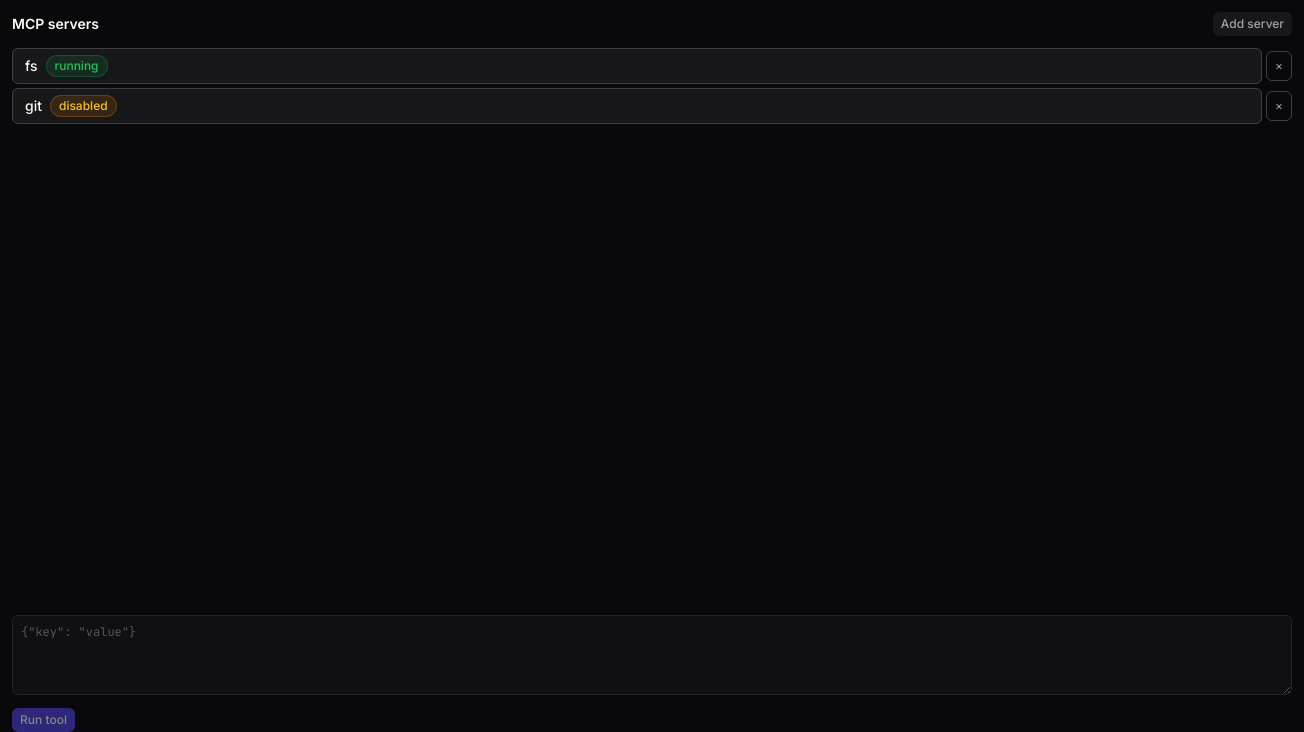
McpPlayground (Fase D + deny-by-default) › lists servers and tools; Run is disabled until a tool is selected
Check: the button "Run tool" is disabled, box 12,708 -> 75,731
Click the button with test id "mcp-server" at coordinates (77, 66), box 12,48 -> 1262,84
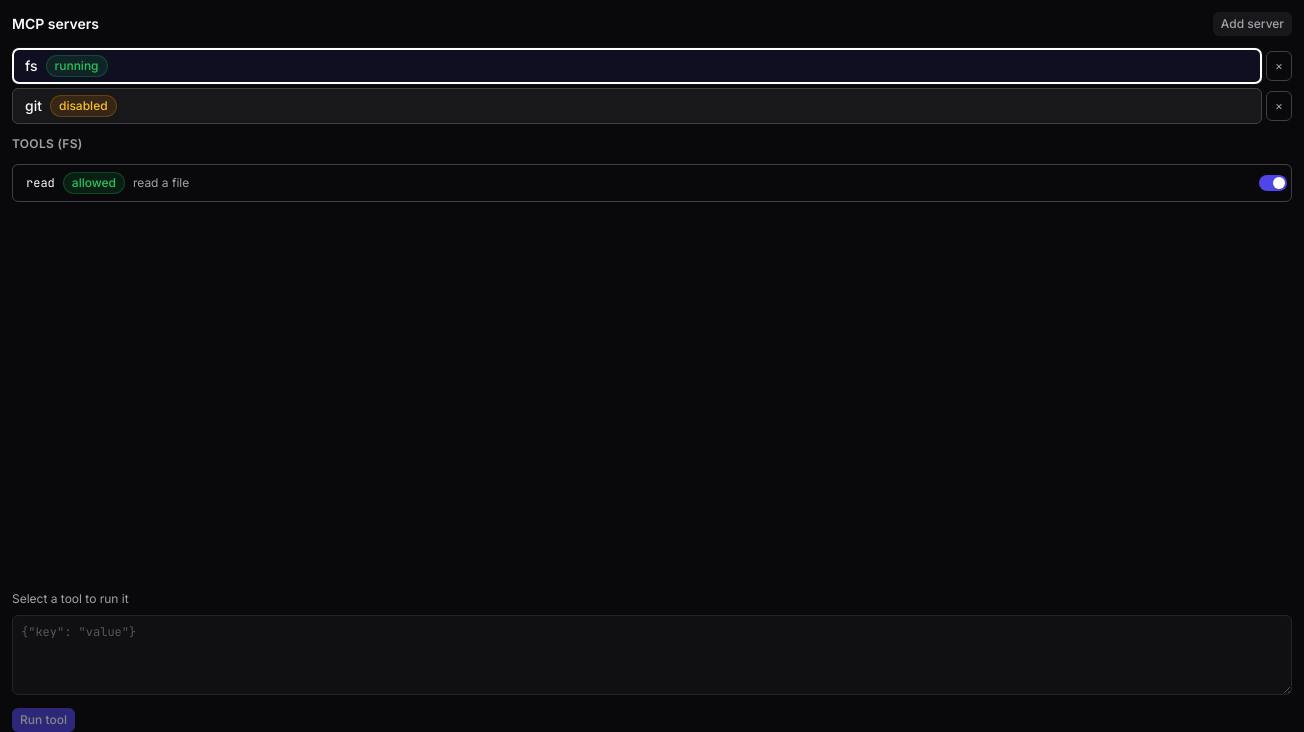
Check: the button "Run tool" is disabled, box 12,708 -> 75,731
Check: the text "read" is shown, box 26,175 -> 55,191
Click the button with test id "mcp-tool" at coordinates (94, 183), box 13,165 -> 1251,201
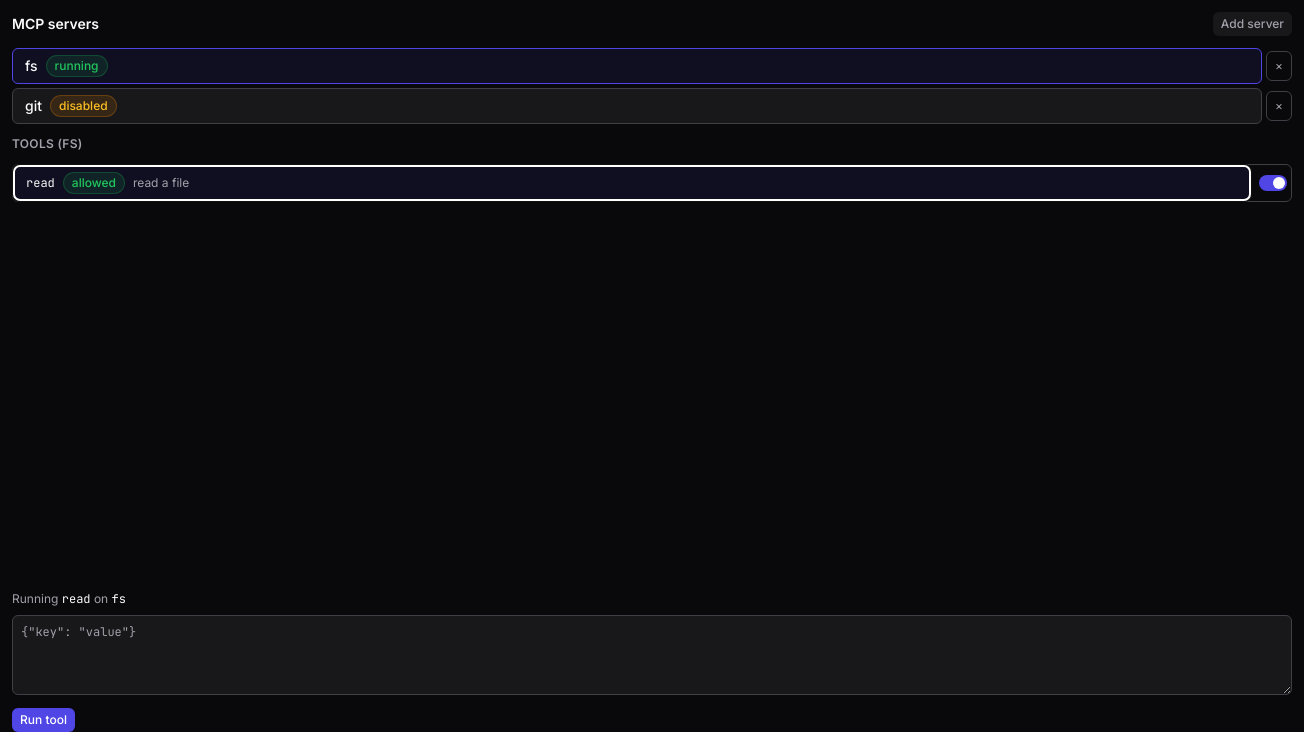
Check: the button "Run tool" is enabled, box 12,708 -> 75,731
